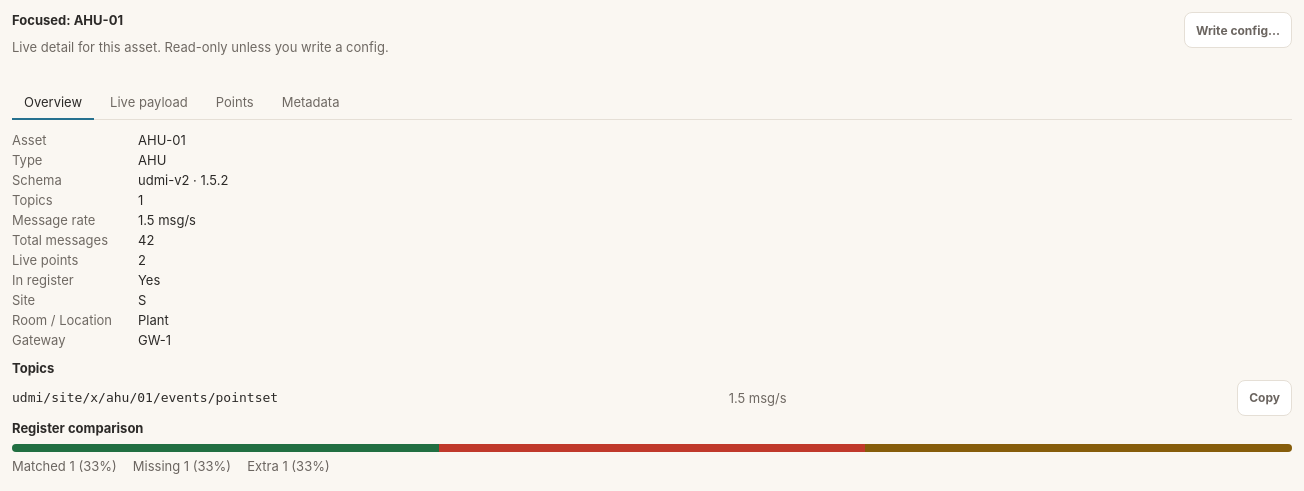
it: MqttFocusedDetail › RAG-verdicts live points against the register in the Points tab (GAP-M1)
Click the tab "Points".
click(235, 102)  # box x1=204 y1=86 x2=266 y2=120
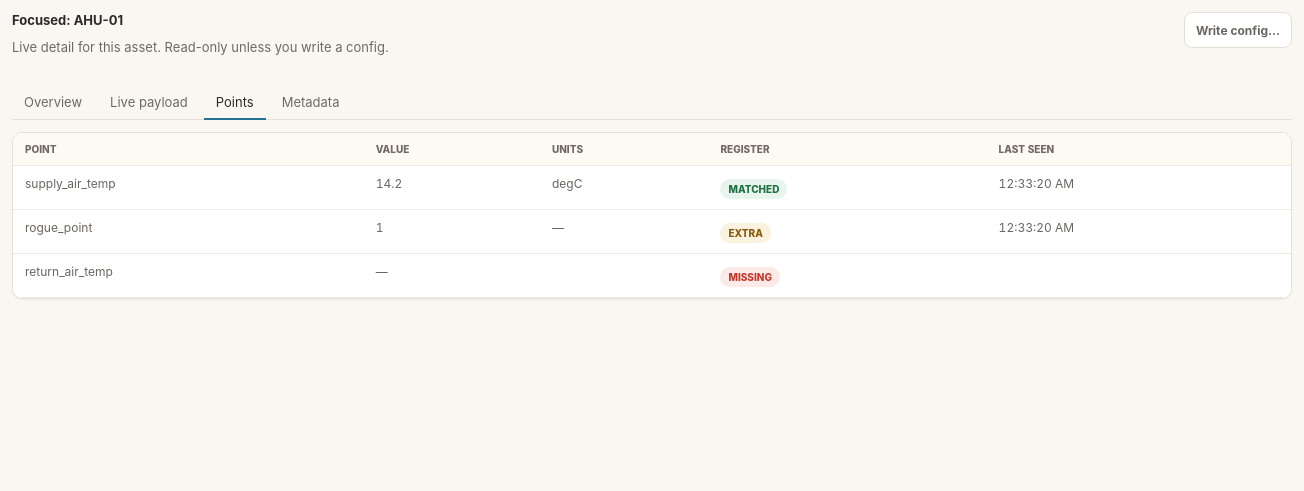
Expected: the text "matched" is shown, x1=720 y1=178 x2=787 y2=198
Expected: the text "return_air_temp" is shown, x1=13 y1=253 x2=364 y2=297
